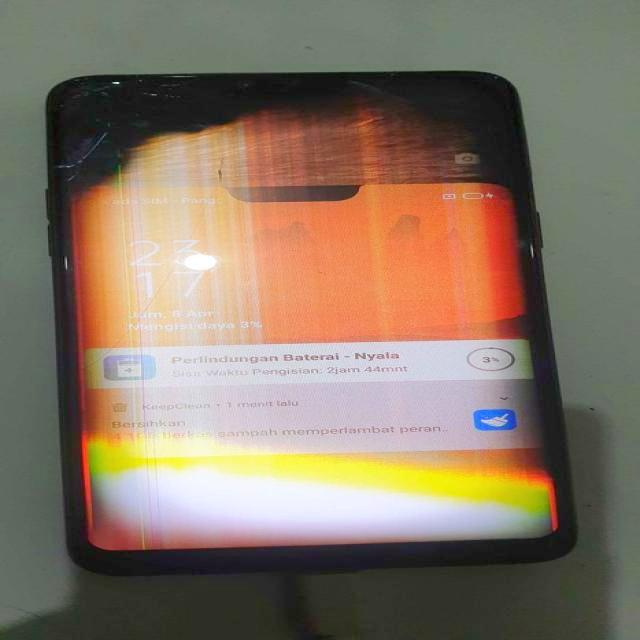phone: (47, 80, 576, 552)
